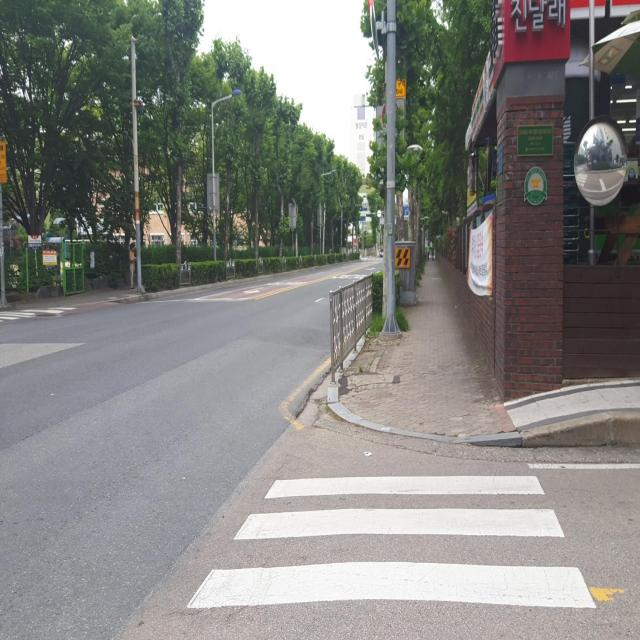횡단보도: (184, 473, 599, 612)
